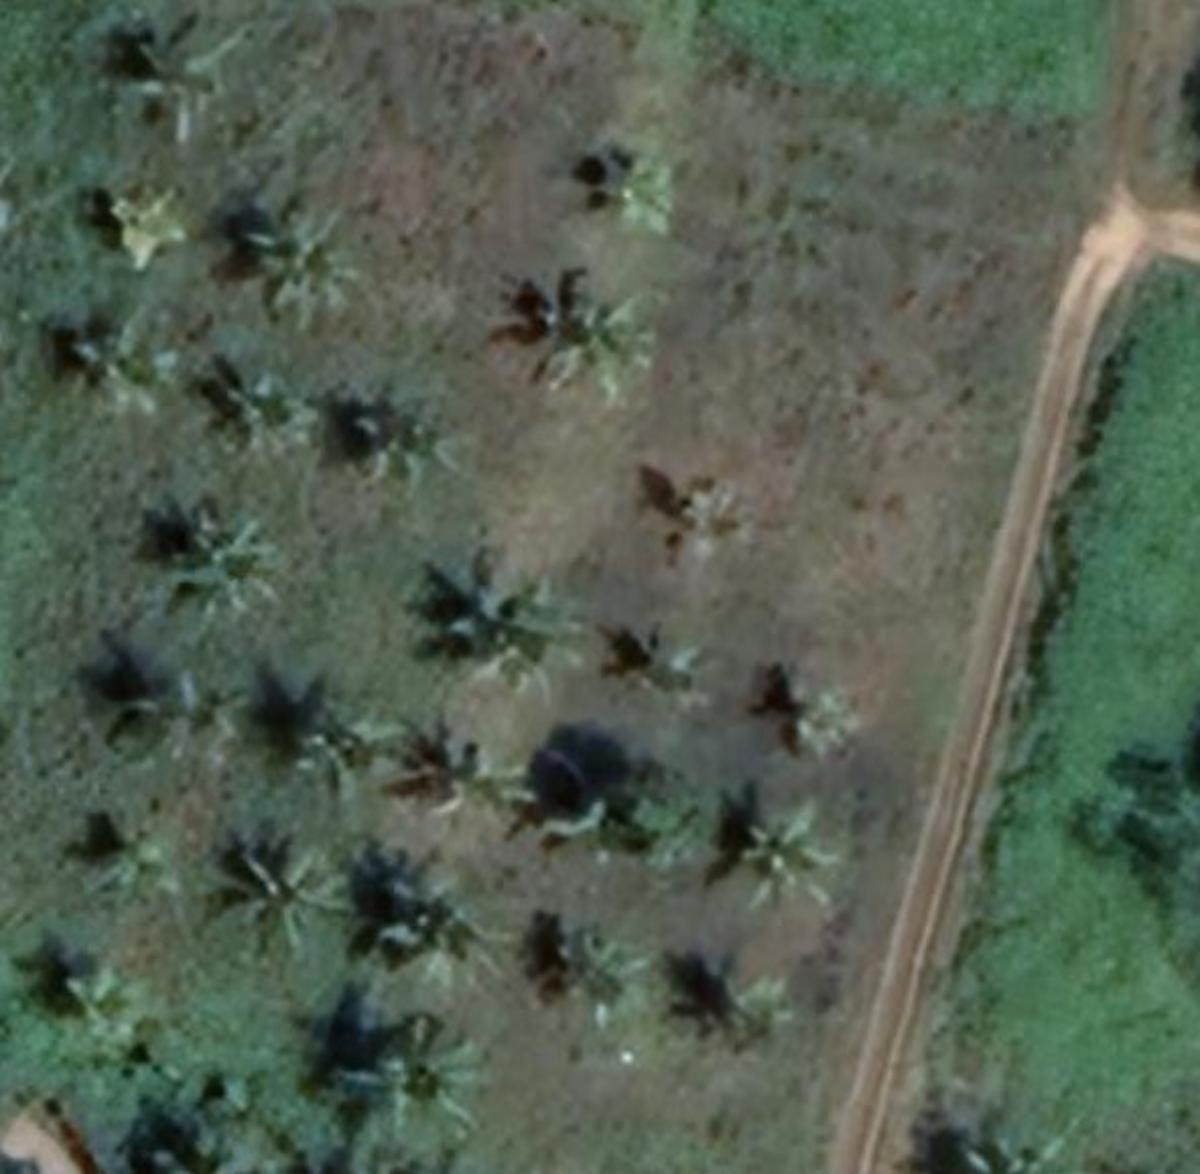coconut: (235, 199, 408, 353), (339, 1015, 513, 1147), (511, 282, 678, 414), (712, 788, 860, 934), (588, 142, 739, 286), (211, 832, 359, 974), (52, 292, 205, 424), (373, 861, 515, 999), (435, 574, 576, 700), (151, 519, 298, 622), (763, 670, 897, 777), (432, 719, 542, 836), (558, 918, 674, 1025), (637, 627, 743, 731), (672, 471, 775, 578), (288, 692, 420, 773), (44, 968, 146, 1066), (217, 375, 322, 457)
